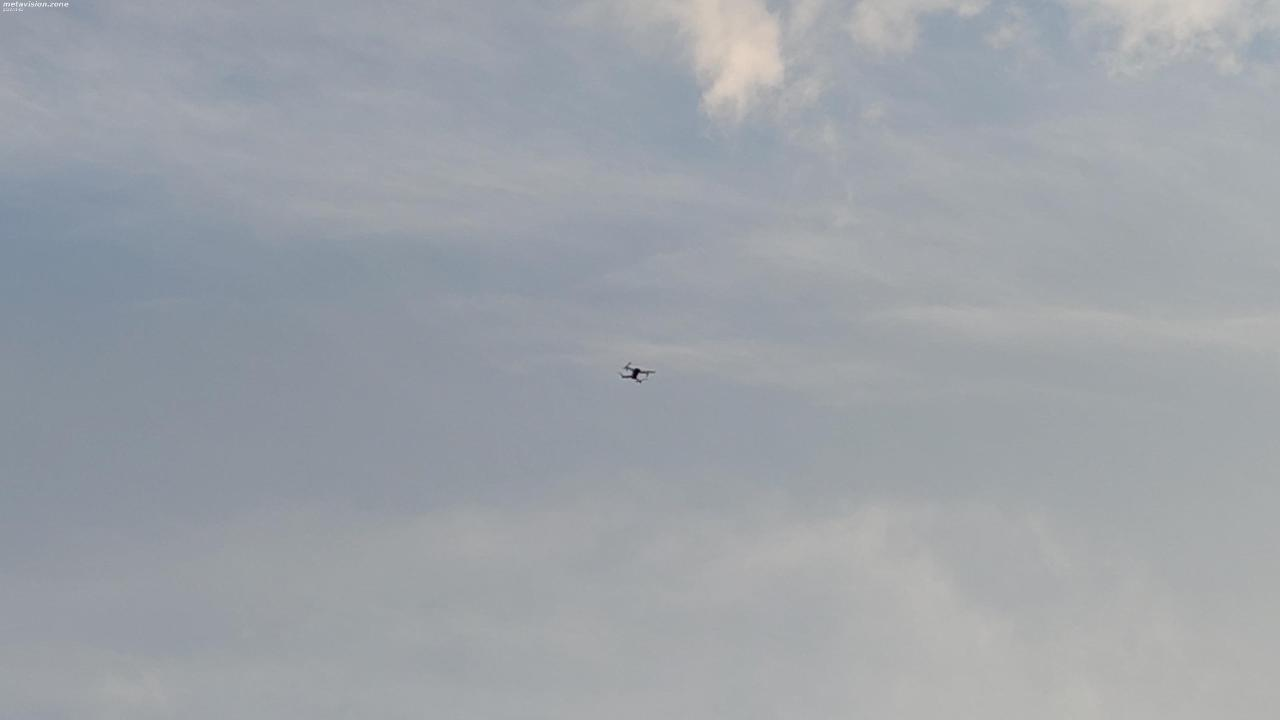drone: (611, 357, 661, 390)
